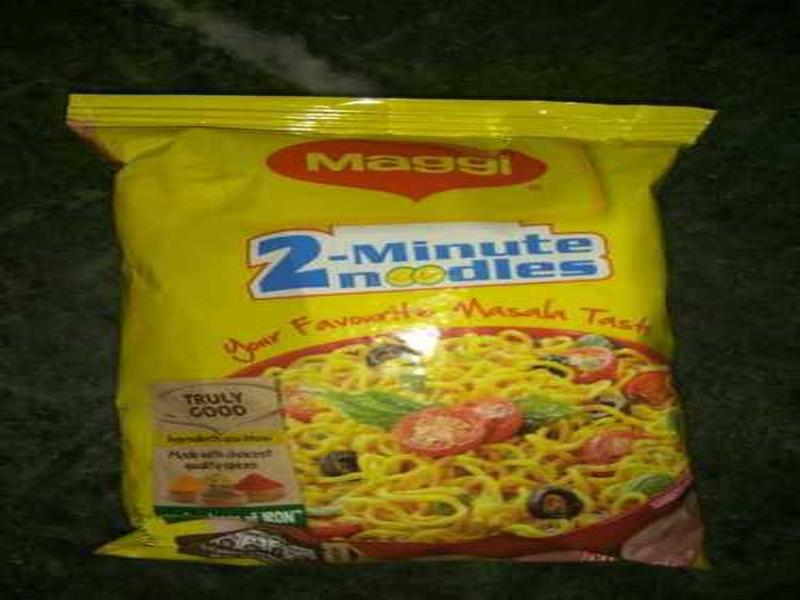maggi-small: (66, 91, 720, 570)
